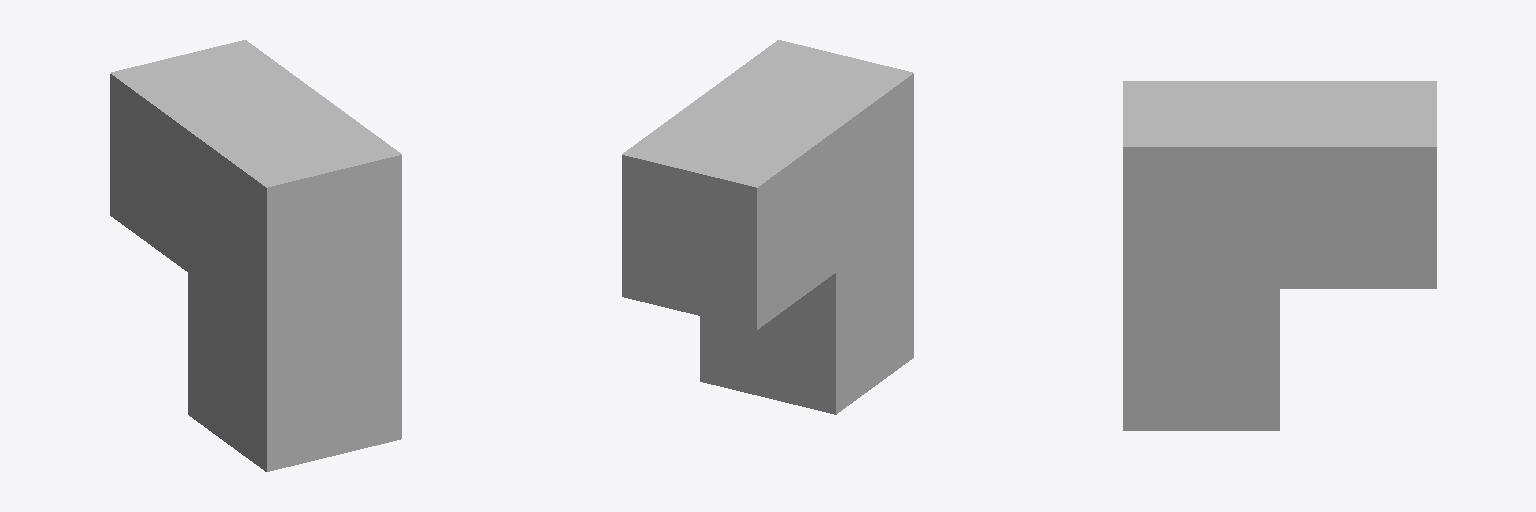
Rendered from VentCorner.obj.
3 renders of one model, left to right at view 1: azimuth 30°, elevation 25°; view 2: azimuth 150°, elevation 25°; view 3: azimuth 270°, elevation 25°, orthographic.
Visible parts, largest first — view 1: VentCorner; view 2: VentCorner; view 3: VentCorner.
Boxes of the visible parts, x1,y1,x2,y2 form: VentCorner: [110, 40, 401, 471]; VentCorner: [622, 40, 913, 414]; VentCorner: [1123, 81, 1436, 430].
Bounding box in the file's own units: 1 × 2 × 2.